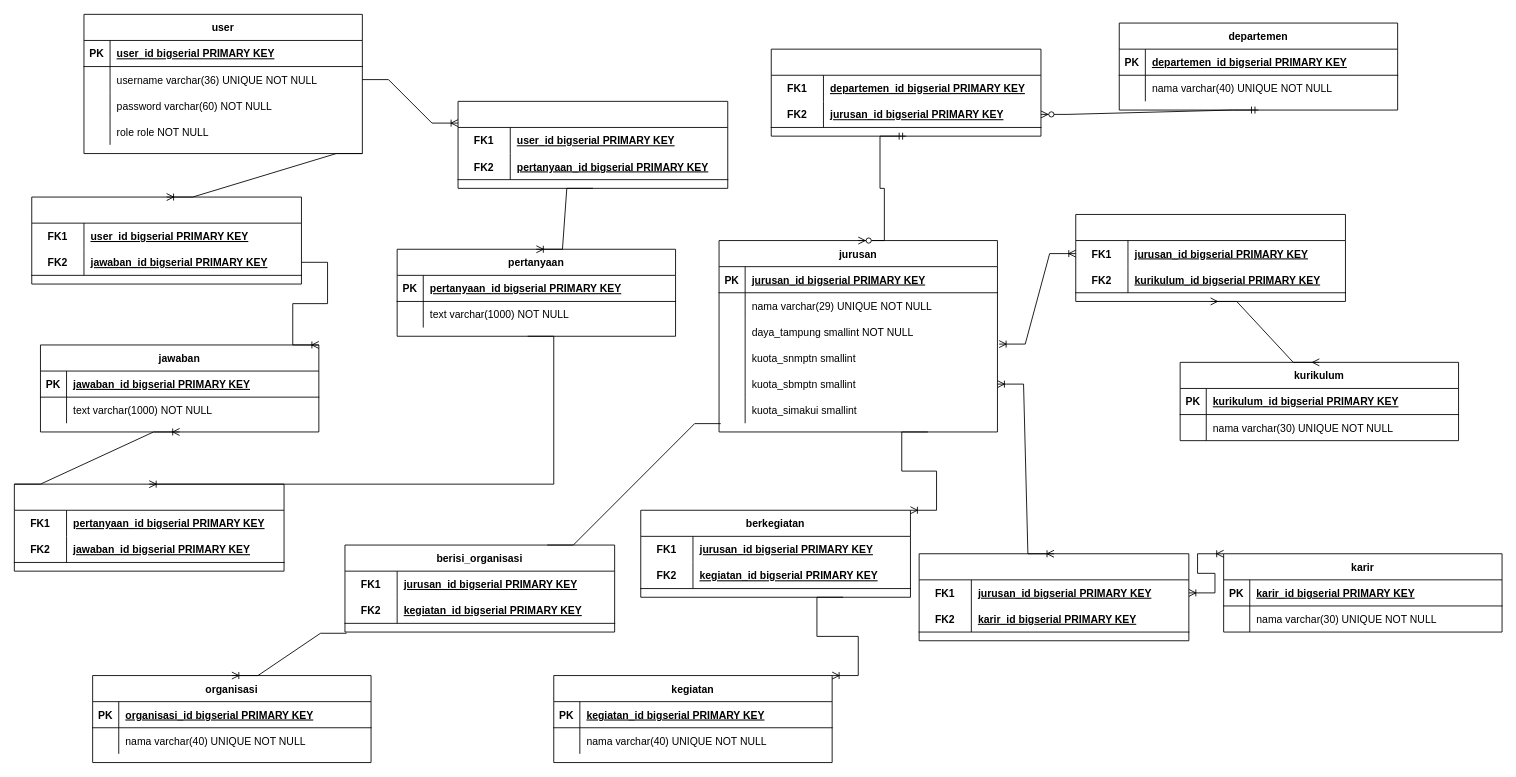
Some shapes in this 1516 by 777 pixel diagram are drawn without their labels. Each missing label, with the box of its shape:
berprospek: (918, 553, 1189, 641)
bertanya: (457, 100, 728, 188)
menjawab: (31, 196, 301, 284)
mewadahi: (770, 48, 1041, 136)
pertanyaan_dari: (13, 483, 284, 571)
punya_kurikulum: (1075, 214, 1345, 301)
